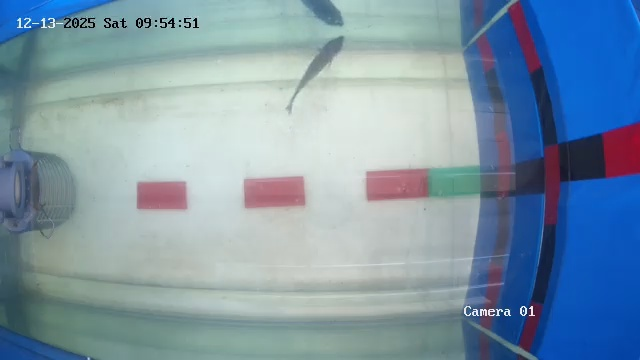fish: (278, 35, 365, 112)
